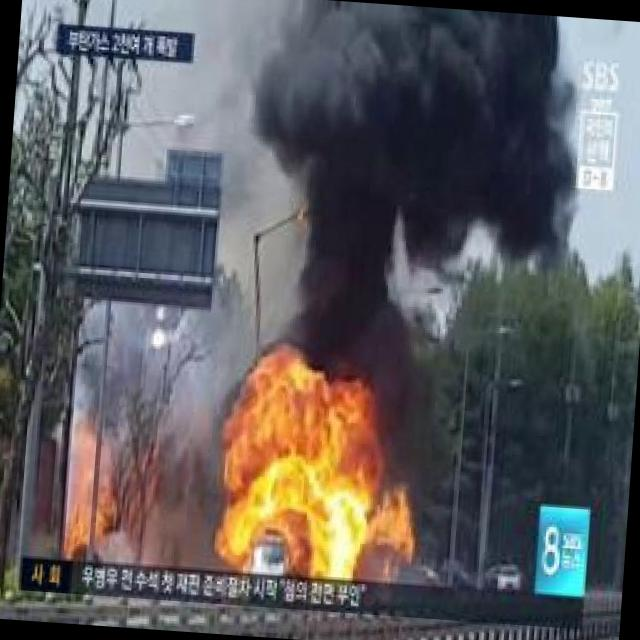Fire: (219, 355, 380, 582), (60, 484, 104, 556)
Smoke: (218, 0, 587, 383), (114, 342, 214, 568)
